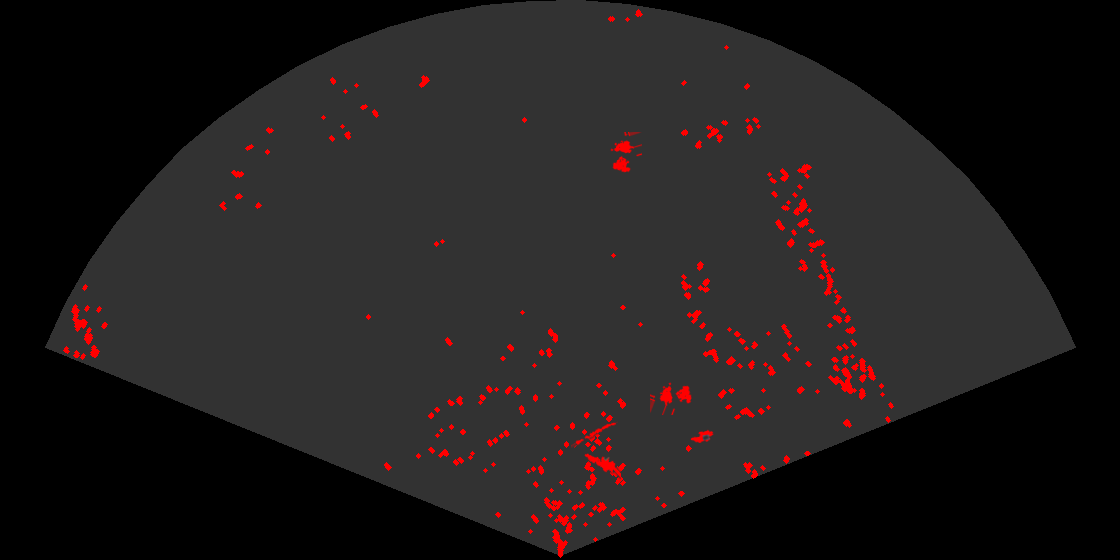AUV: (689, 428, 715, 444)
cage: (650, 381, 693, 415), (609, 132, 642, 174)
chain: (571, 420, 618, 448)
frogman: (583, 452, 621, 480)
